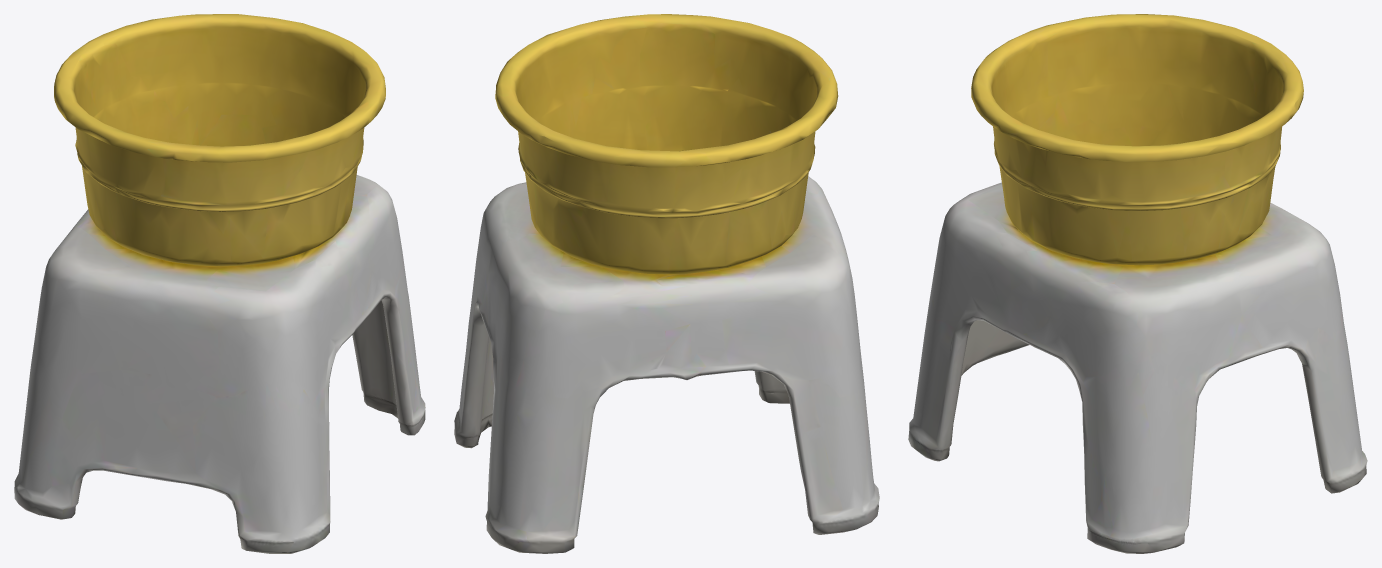
File: bathset.glb
The picture shows the model from 3 angles, left to right: view 1: azimuth 30°, elevation 25°; view 2: azimuth 150°, elevation 25°; view 3: azimuth 270°, elevation 25°; orthographic projection. The views are drawn at different scales.
Parts seen in each view (by area): view 1: tripo_node_6343e97b-64f7-4d20-9236-f7d12df4ff05; view 2: tripo_node_6343e97b-64f7-4d20-9236-f7d12df4ff05; view 3: tripo_node_6343e97b-64f7-4d20-9236-f7d12df4ff05.
Boxes of the visible parts, x1,y1,x2,y2 form: tripo_node_6343e97b-64f7-4d20-9236-f7d12df4ff05: (14,14,425,553); tripo_node_6343e97b-64f7-4d20-9236-f7d12df4ff05: (454,14,879,553); tripo_node_6343e97b-64f7-4d20-9236-f7d12df4ff05: (908,14,1367,553).
Bounding box in the file's own units: 0.999 × 0.9083 × 1.
Materials: 1 (1 with a texture image).
